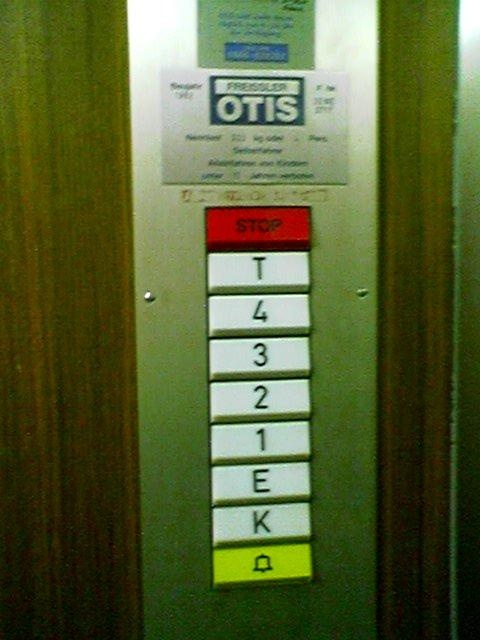1: (207, 417, 315, 466)
2: (206, 375, 316, 421)
3: (207, 332, 312, 380)
4: (206, 290, 313, 334)
E: (208, 460, 313, 503)
K: (209, 498, 314, 547)
T: (204, 247, 313, 294)
alarm: (209, 540, 316, 586)
stop: (202, 201, 314, 251)
